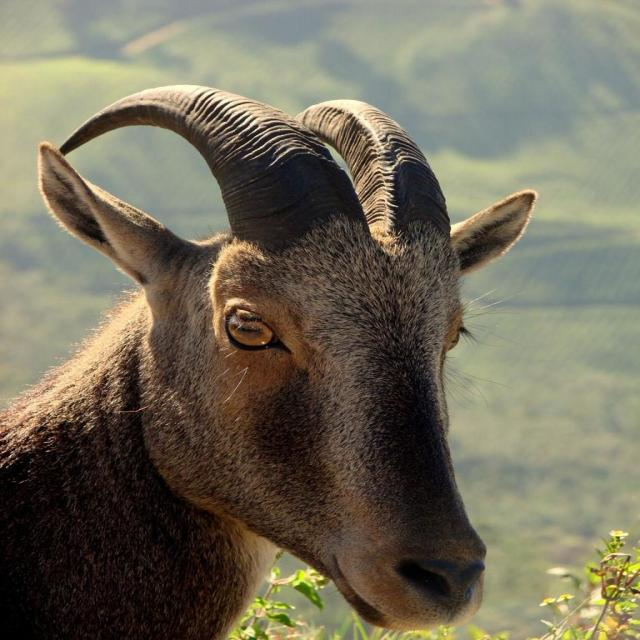Goat: (0, 91, 541, 638)
